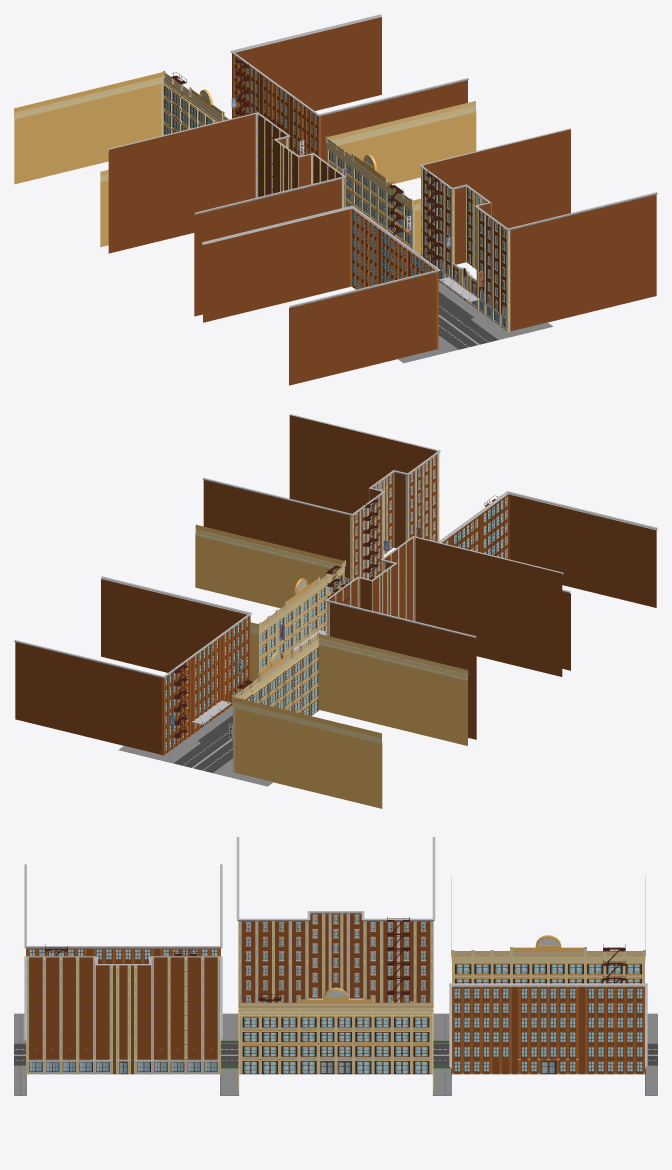
Rendered from TileCity4_1.fbx.
3 renders of one model, top to bottom at view 1: azimuth 30°, elevation 25°; view 2: azimuth 150°, elevation 25°; view 3: azimuth 270°, elevation 25°, orthographic. The views are drawn at different scales.
Parts seen in each view (by area): view 1: Sidewalk1.058, Sidewalk1.046, Sidewalk1.047, Sidewalk1.057, Sidewalk1.029, Sidewalk1.038, Sidewalk1.056, Sidewalk1.039, Sidewalk1.037, Sidewalk1.055, Sidewalk1.028, Sidewalk1.054 (+32 smaller); view 2: Sidewalk1.046, Sidewalk1.059, Sidewalk1.038, Sidewalk1.047, Sidewalk1.029, Sidewalk1.028, Sidewalk1.052, Sidewalk1.050, Sidewalk1.039, Sidewalk1.027, Sidewalk1.037, Sidewalk1.051 (+31 smaller); view 3: Sidewalk1.033, Sidewalk1.021, Sidewalk1.013, Sidewalk1.030, Sidewalk1.050, Sidewalk1.035, Sidewalk1.044, Sidewalk1.027, Sidewalk1.029, Sidewalk1.037, Sidewalk1.025, Sidewalk1.038 (+26 smaller).
Boxes of the visible parts, x1,y1,x2,y2 form: Sidewalk1.058: (203, 208, 438, 320); Sidewalk1.046: (108, 126, 344, 238); Sidewalk1.047: (108, 113, 344, 225); Sidewalk1.057: (203, 221, 438, 333); Sidewalk1.029: (232, 17, 467, 129); Sidewalk1.038: (421, 142, 656, 254); Sidewalk1.056: (203, 234, 438, 346); Sidewalk1.039: (421, 129, 656, 241); Sidewalk1.037: (421, 155, 656, 267); Sidewalk1.055: (203, 247, 438, 359); Sidewalk1.028: (232, 30, 467, 142); Sidewalk1.054: (203, 260, 438, 372); Sidewalk1.046: (327, 550, 562, 661); Sidewalk1.059: (233, 645, 467, 756); Sidewalk1.038: (203, 428, 439, 540); Sidewalk1.047: (327, 537, 562, 648); Sidewalk1.029: (15, 579, 250, 691); Sidewalk1.028: (15, 592, 250, 704); Sidewalk1.052: (233, 658, 467, 769); Sidewalk1.050: (231, 632, 468, 743); Sidewalk1.039: (203, 415, 439, 527); Sidewalk1.027: (15, 605, 250, 716); Sidewalk1.037: (203, 441, 439, 553); Sidewalk1.051: (233, 671, 467, 782); Sidewalk1.033: (238, 987, 433, 1094); Sidewalk1.021: (239, 1044, 432, 1059); Sidewalk1.013: (239, 1059, 432, 1074); Sidewalk1.030: (26, 1059, 220, 1074); Sidewalk1.050: (451, 874, 645, 962); Sidewalk1.035: (27, 1015, 219, 1038); Sidewalk1.044: (238, 954, 433, 977); Sidewalk1.027: (452, 1015, 644, 1030); Sidewalk1.029: (452, 986, 644, 1001); Sidewalk1.037: (27, 986, 219, 1008); Sidewalk1.025: (451, 1059, 645, 1074); Sidewalk1.038: (27, 971, 219, 994).
Bounding box in the file's own units: 14840 × 4130 × 20000.
